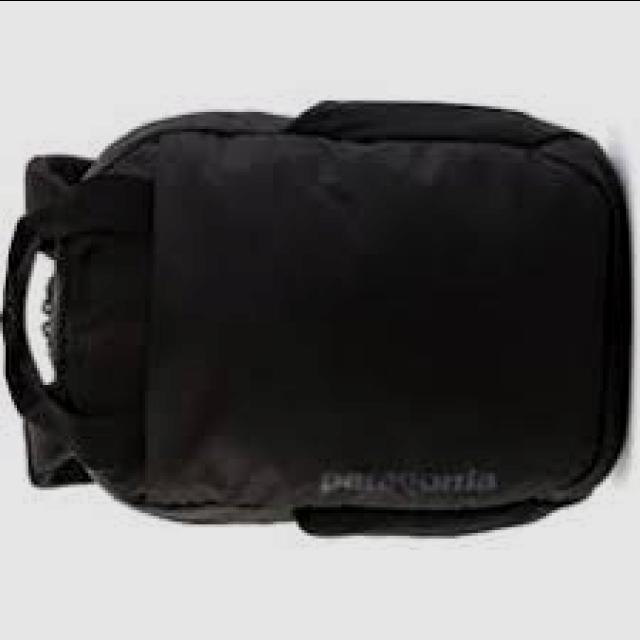backpack: (2, 101, 630, 542)
